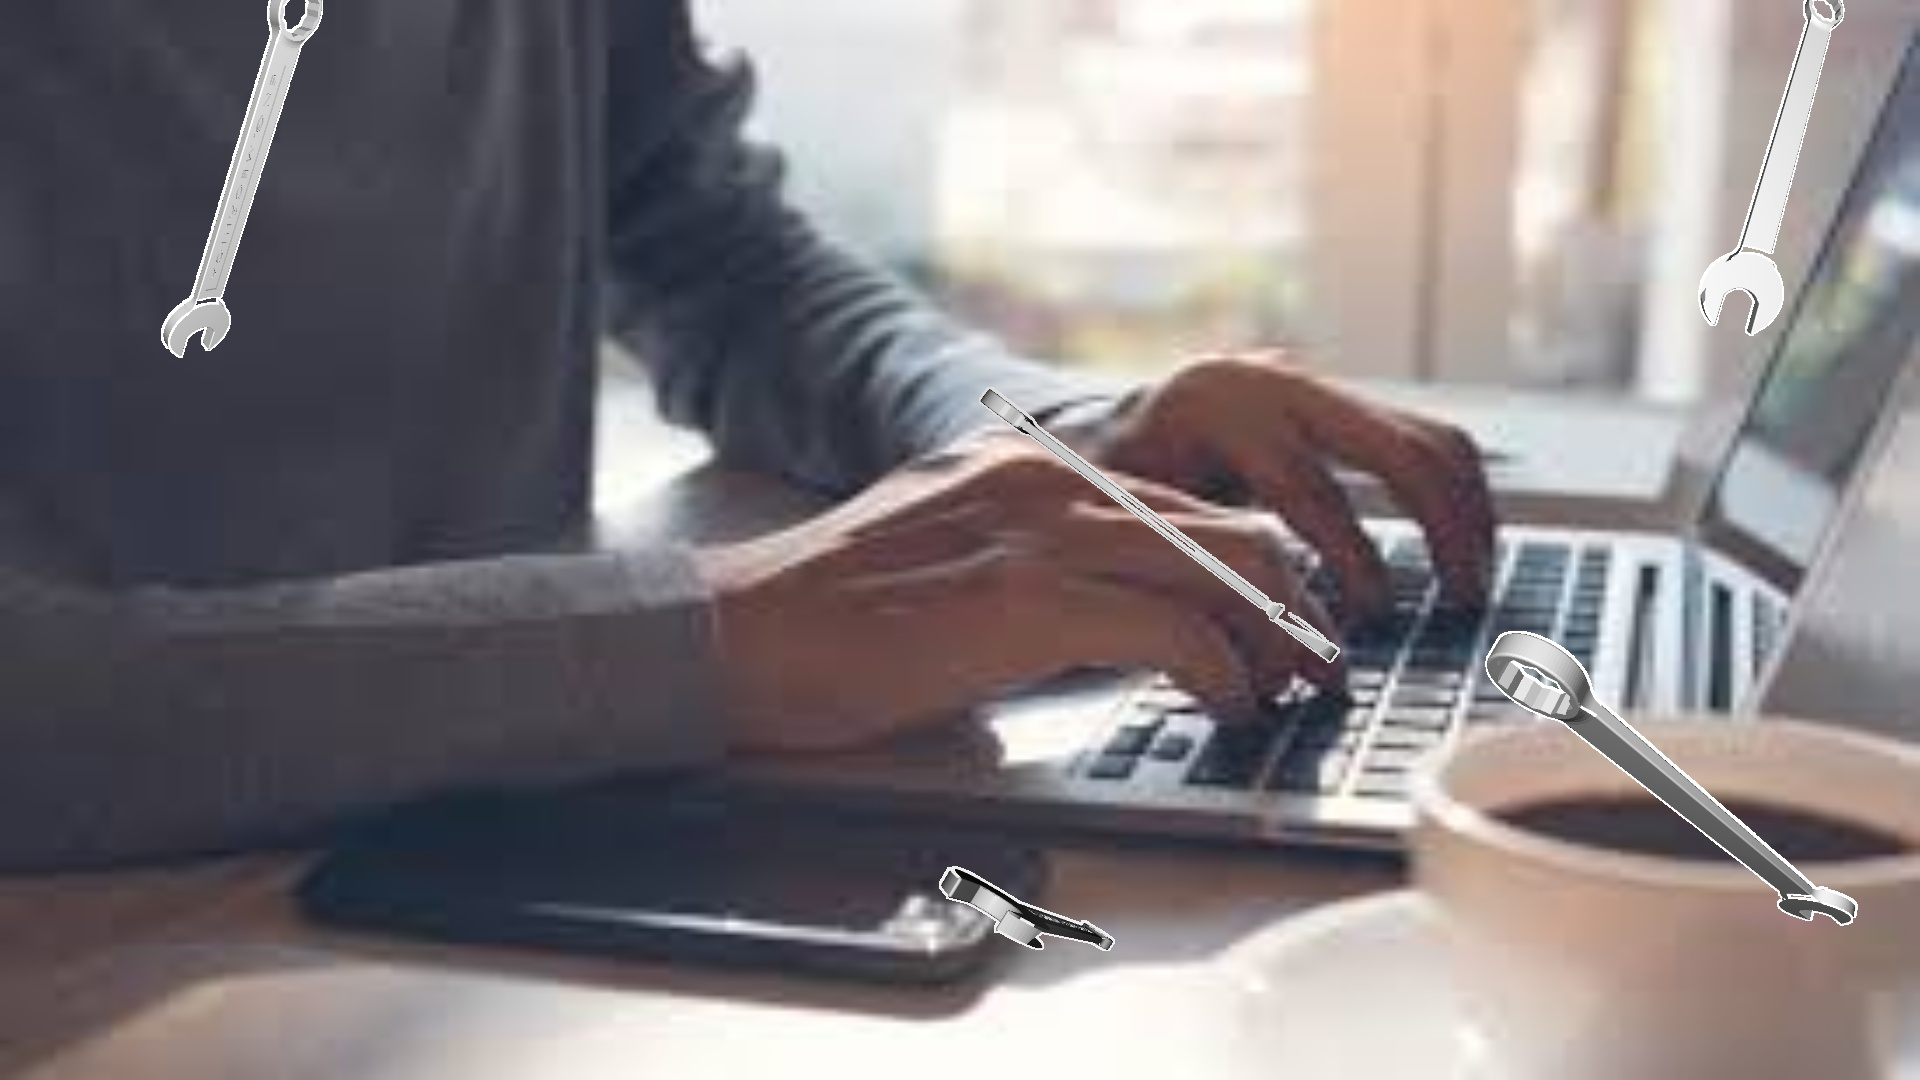Mixed Key: (1485, 632, 1857, 924), (978, 386, 1338, 662), (161, 0, 322, 357), (1698, 0, 1844, 335), (939, 866, 1114, 949)
